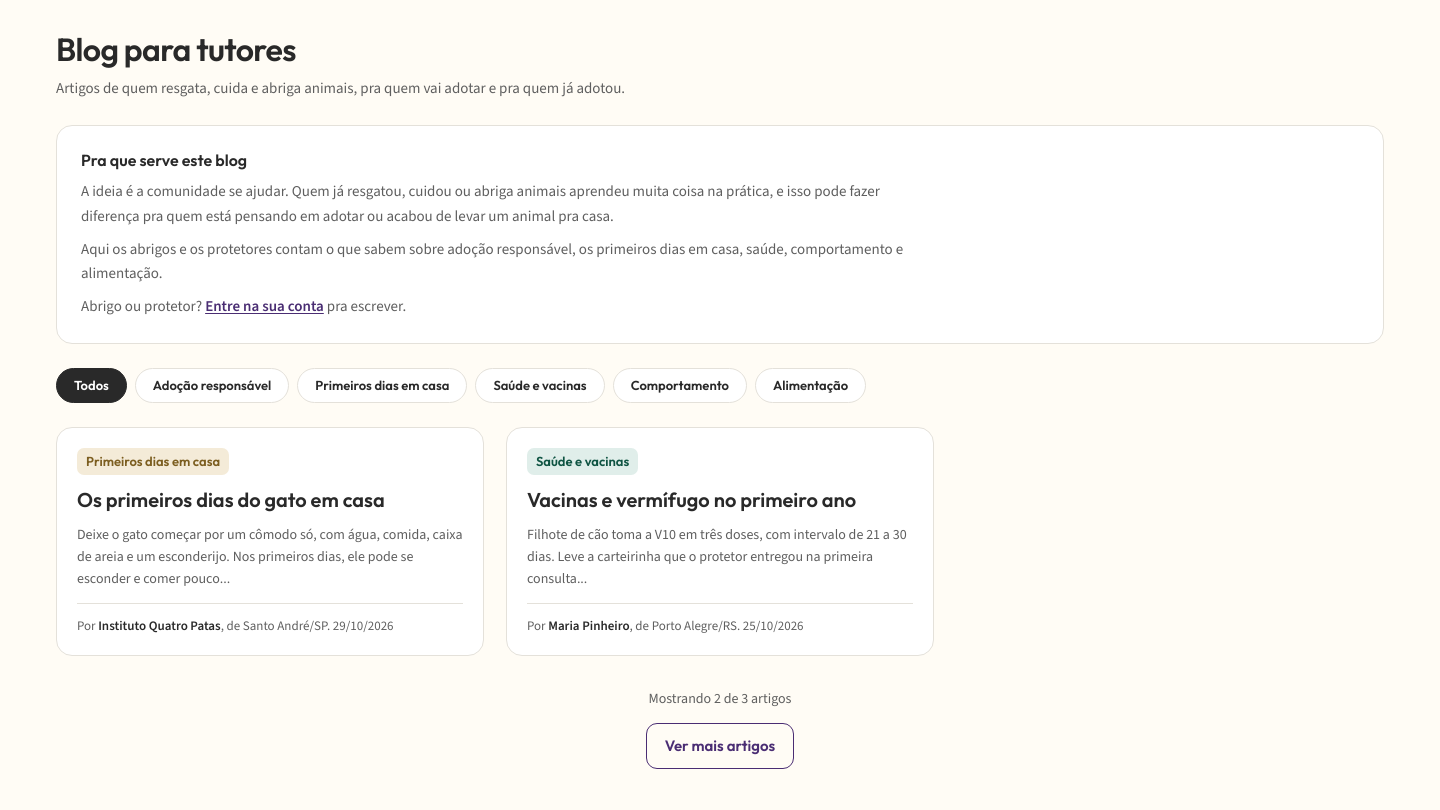
it: o Ver mais artigos traz a próxima página e leva o foco pro título do primeiro artigo novo
Expected: the text "Mostrando 2 de 3 artigos" is shown, [648,688,792,711]
Click the button "Ver mais artigos" at (720, 746), box [646,723,794,769]
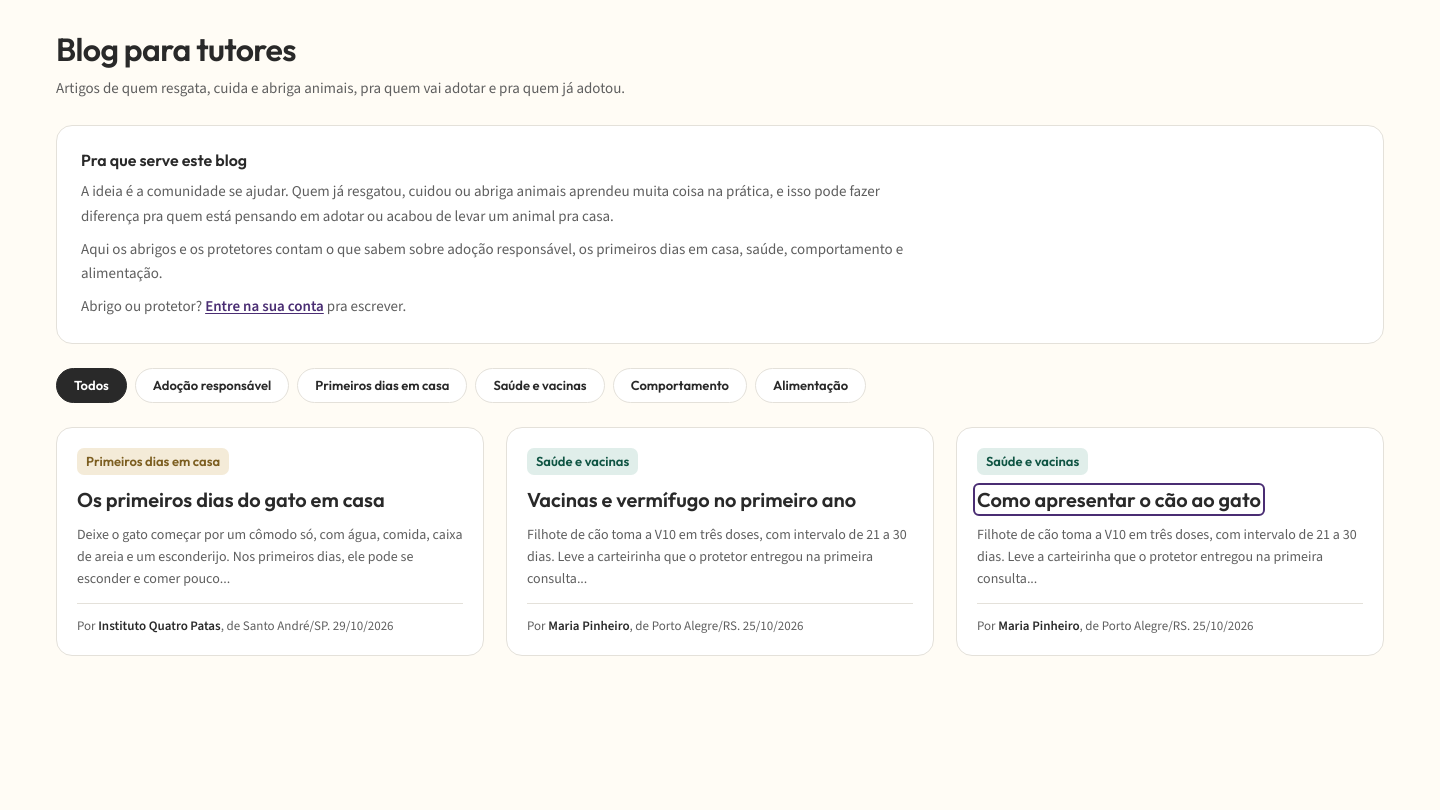
Expected: the number of links "Vacinas e vermífugo no primeiro ano" is 1, [527,487,856,512]
Result: the button "Ver mais artigos" is gone
